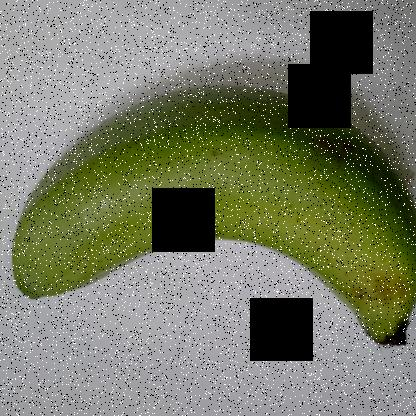freshunripe: (3, 70, 415, 364)
